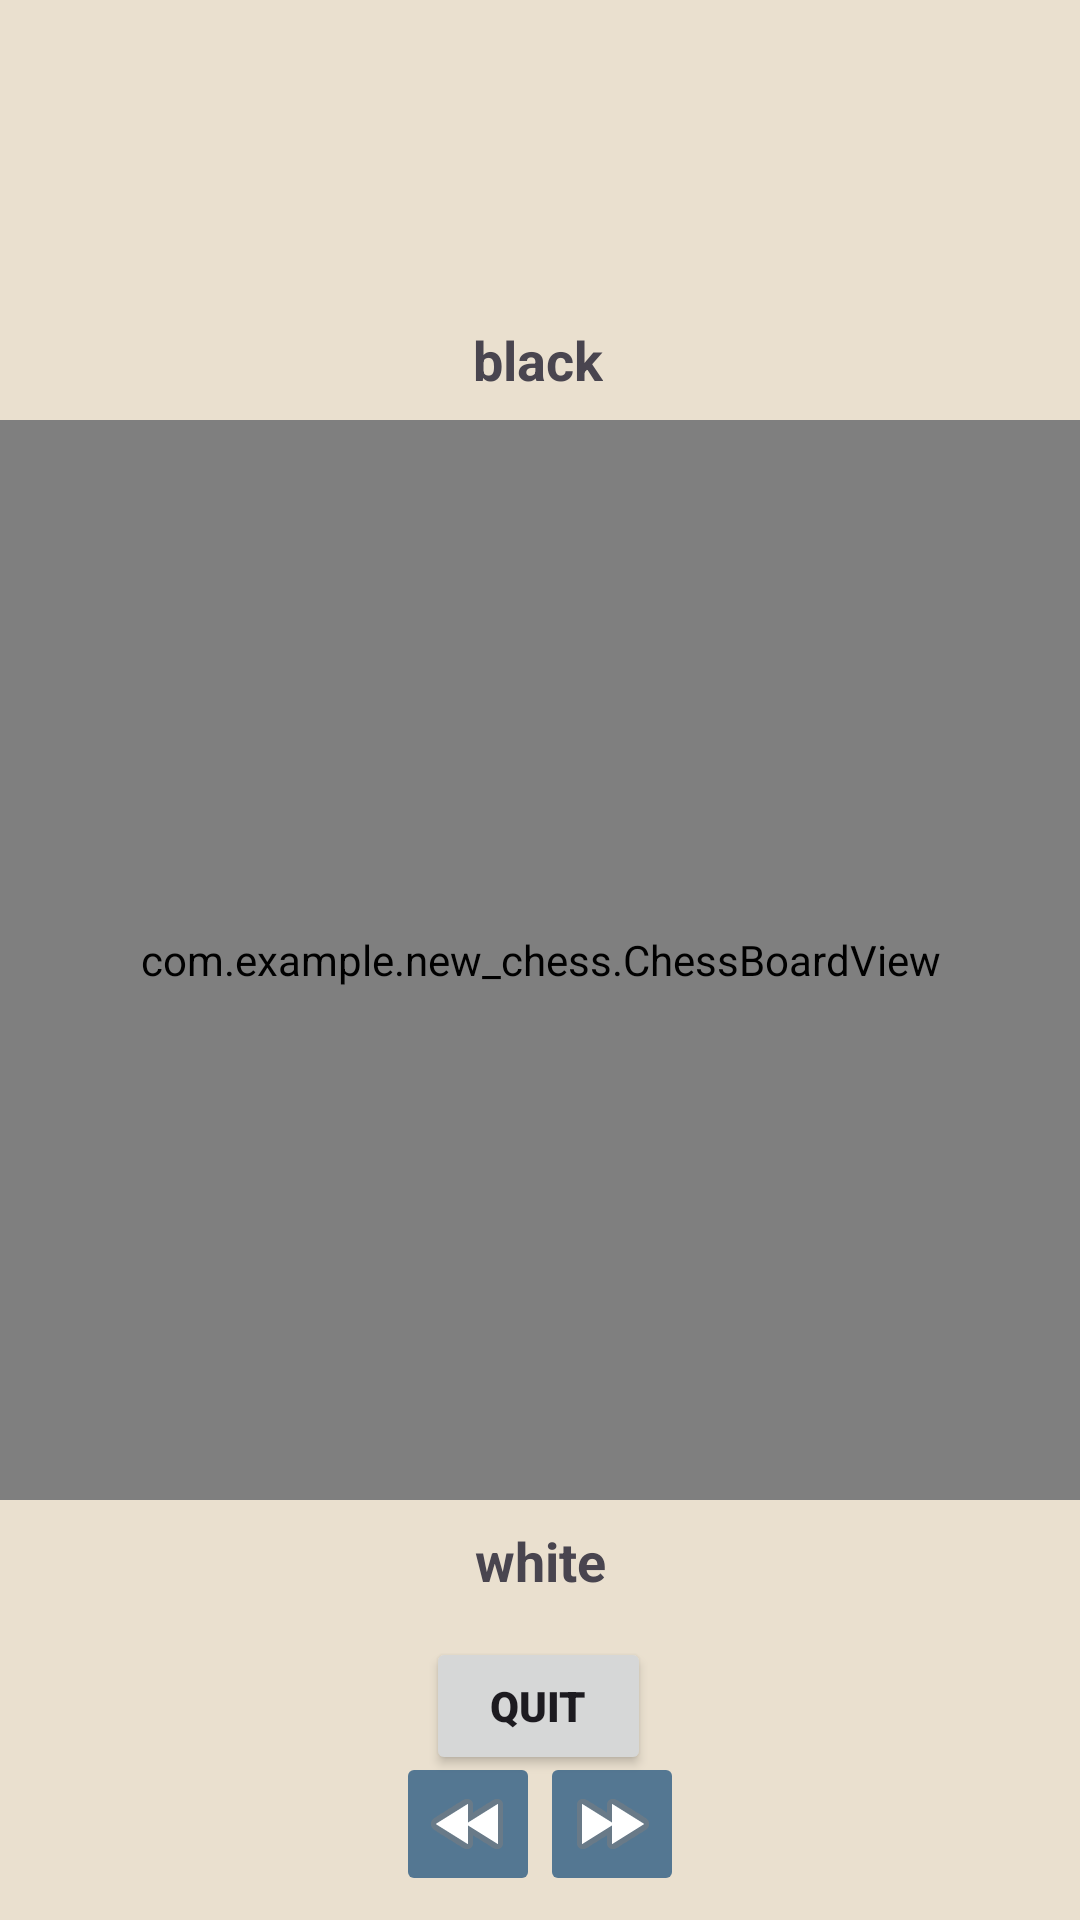

Screen size 1080 x 1920. Icon name, then its box in pixels as (x1, y1, x2, y2):
Redo: (552, 1770, 672, 1878)
Undo: (408, 1770, 528, 1878)
